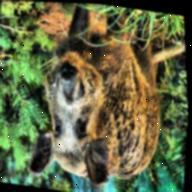boar: (7, 1, 187, 192)
